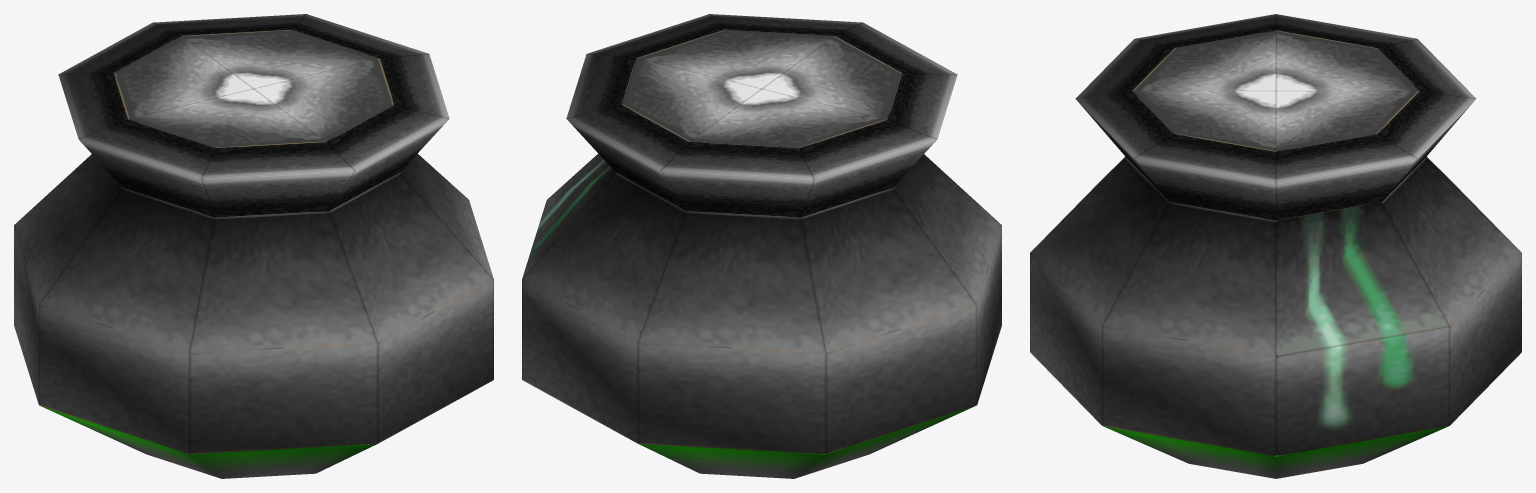
The picture shows the model from 3 angles, left to right: view 1: azimuth 30°, elevation 25°; view 2: azimuth 150°, elevation 25°; view 3: azimuth 270°, elevation 25°; orthographic projection.
Visible parts, largest first — view 1: T1L3M003_2; view 2: T1L3M003_2; view 3: T1L3M003_2.
Boxes of the visible parts, <box> form: T1L3M003_2: <box>14,14,493,478</box>; T1L3M003_2: <box>522,14,1001,478</box>; T1L3M003_2: <box>1030,14,1521,478</box>.
Bounding box in the file's own units: 1.81 × 1.36 × 1.81.
Materials: 1 (1 with a texture image).
